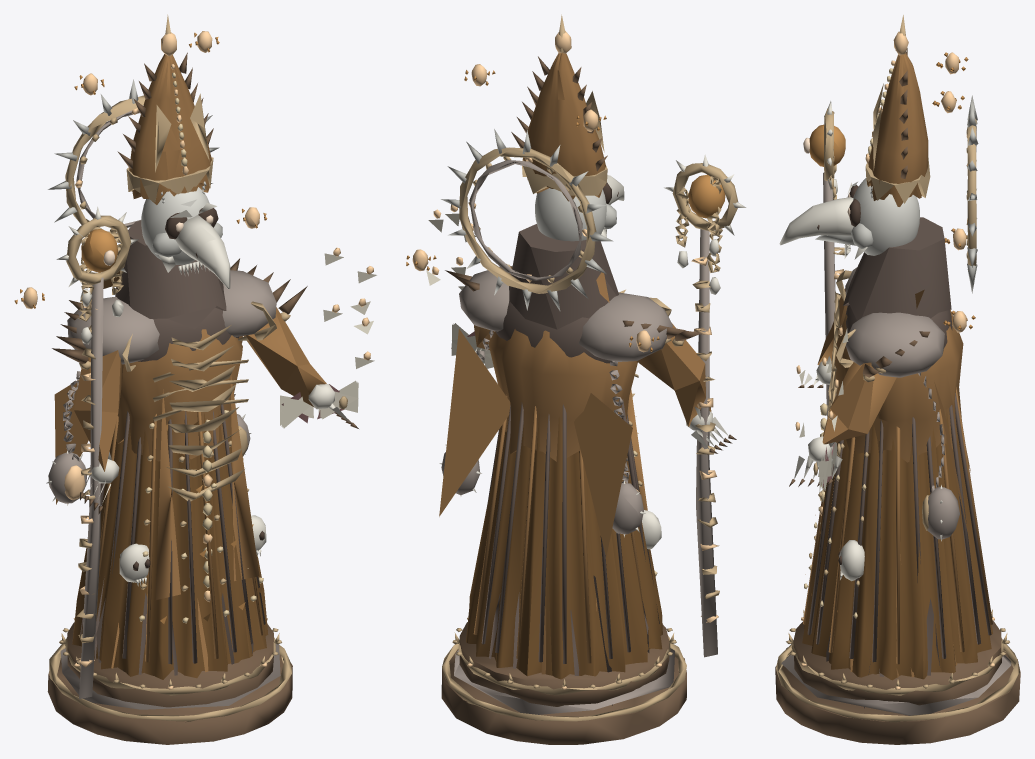
Rendered from fou_archiveque_orange.fbx.
3 renders of one model, left to right at view 1: azimuth 30°, elevation 25°; view 2: azimuth 150°, elevation 25°; view 3: azimuth 270°, elevation 25°, orthographic.
Visible parts, largest first — view 1: 10_robe_main_velvet_sculpt, 11_robe_mantle_sculpt, 01_pedestal_low, 55_mitre_vault_sculpt, 26_hood_neck_ring, 03_pedestal_plinth, 70_staff_shaft, 30_sleeve_1, 21_shoulder_pauldron_-1, 12_tabard_side_-1, 21_shoulder_pauldron_1, 30_sleeve_-1 (+23 smaller); view 2: 10_robe_main_velvet_sculpt, 11_robe_mantle_sculpt, 01_pedestal_low, 26_hood_neck_ring, 25_side_mantle_1, 55_mitre_vault_sculpt, 03_pedestal_plinth, 25_side_mantle_-1, 70_staff_shaft, 21_shoulder_pauldron_-1, 65_cursed_halo_back, 30_sleeve_-1 (+20 smaller); view 3: 10_robe_main_velvet_sculpt, 01_pedestal_low, 26_hood_neck_ring, 11_robe_mantle_sculpt, 03_pedestal_plinth, 55_mitre_vault_sculpt, 21_shoulder_pauldron_1, 30_sleeve_1, 40_skull_cranium, 05_pedestal_inlay_low, 47_hooked_plague_beak, 02_pedestal_trim (+25 smaller).
Boxes of the visible parts, x1,y1,x2,y2 form: 10_robe_main_velvet_sculpt: (72,412,268,679); 11_robe_mantle_sculpt: (111,329,242,461); 01_pedestal_low: (47,654,292,744); 55_mitre_vault_sculpt: (129,54,211,204); 26_hood_neck_ring: (115,220,226,329); 03_pedestal_plinth: (67,622,273,707); 70_staff_shaft: (79,277,103,698); 30_sleeve_1: (243,307,326,407); 21_shoulder_pauldron_-1: (67,297,159,364); 12_tabard_side_-1: (155,389,180,599); 21_shoulder_pauldron_1: (222,270,276,337); 30_sleeve_-1: (74,350,123,471); 10_robe_main_velvet_sculpt: (466,411,662,679); 11_robe_mantle_sculpt: (488,329,637,461); 01_pedestal_low: (441,649,686,744); 26_hood_neck_ring: (509,224,618,329); 25_side_mantle_1: (439,329,510,516); 55_mitre_vault_sculpt: (522,52,605,201); 03_pedestal_plinth: (459,622,669,706); 25_side_mantle_-1: (574,393,632,557); 70_staff_shaft: (696,229,717,657); 21_shoulder_pauldron_-1: (579,292,672,361); 65_cursed_halo_back: (459,147,596,293); 30_sleeve_-1: (636,323,711,426); 10_robe_main_velvet_sculpt: (802,390,992,680); 01_pedestal_low: (775,647,1020,744); 26_hood_neck_ring: (843,217,951,320); 11_robe_mantle_sculpt: (834,310,963,462); 03_pedestal_plinth: (793,620,1001,705); 55_mitre_vault_sculpt: (867,53,928,206); 21_shoulder_pauldron_1: (845,312,944,377); 30_sleeve_1: (822,362,896,444); 40_skull_cranium: (853,178,919,255); 05_pedestal_inlay_low: (776,644,1019,722); 47_hooked_plague_beak: (779,197,853,245); 02_pedestal_trim: (781,655,1011,715).
Bounding box in the file's own units: 102 × 207 × 67.82.
